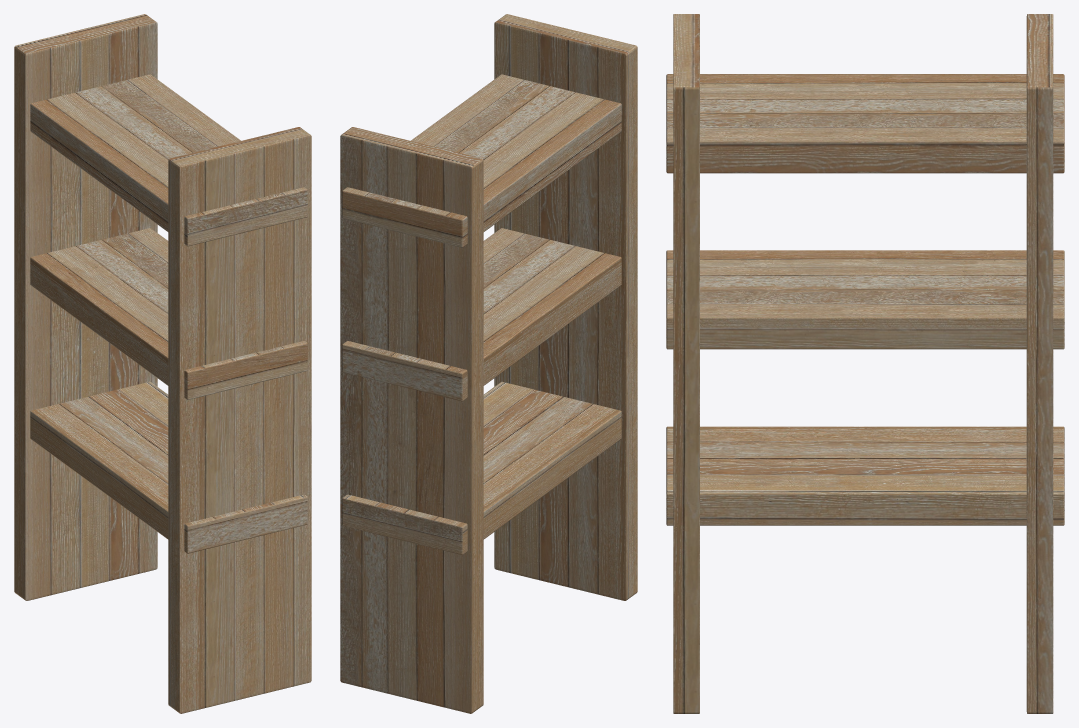
Rendered from shelfs.fbx.
3 views of the same model, side by side, from view 1: azimuth 30°, elevation 25°; view 2: azimuth 150°, elevation 25°; view 3: azimuth 270°, elevation 25° (orthographic). The views are drawn at different scales.
Parts seen in each view (by area): view 1: Plane.014; view 2: Plane.014; view 3: Plane.014.
Part boxes in pixels (x1,y1,x2,y2): Plane.014: (14,14,311,713); Plane.014: (340,14,637,713); Plane.014: (666,14,1064,713).
Size of the model in its own units: 43.96 by 174 by 99.98.
